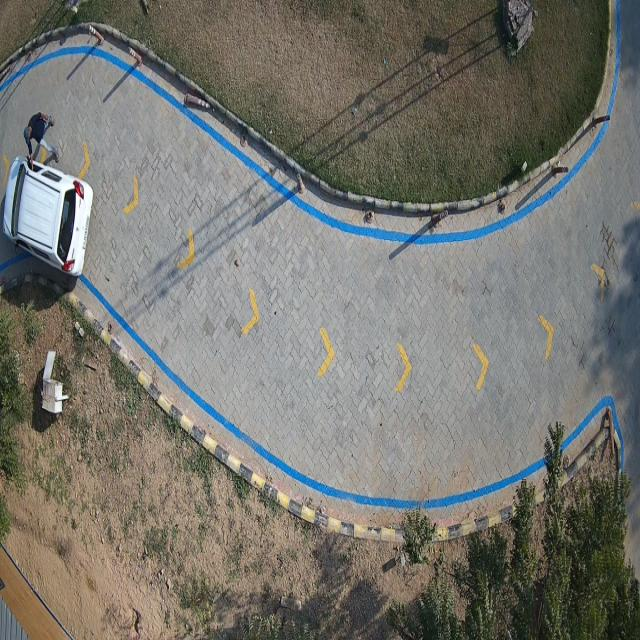car: (4, 158, 94, 286)
